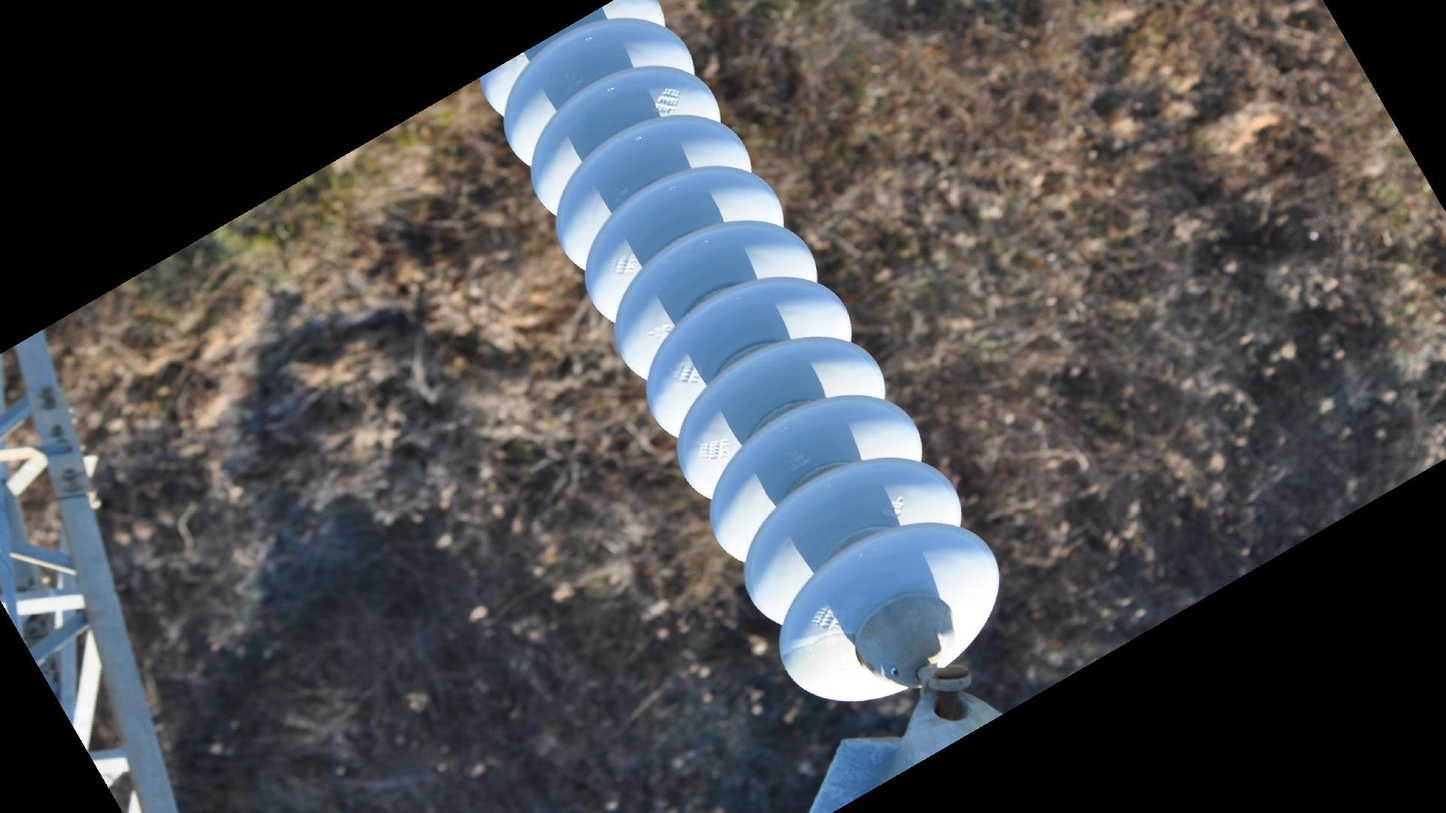insulator: (468, 1, 1006, 706)
insulator_flashover: (776, 629, 877, 704)
